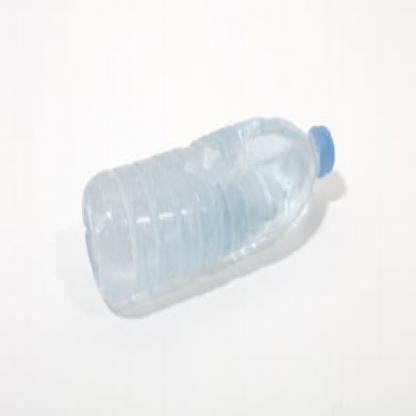bottle: (69, 83, 351, 327)
